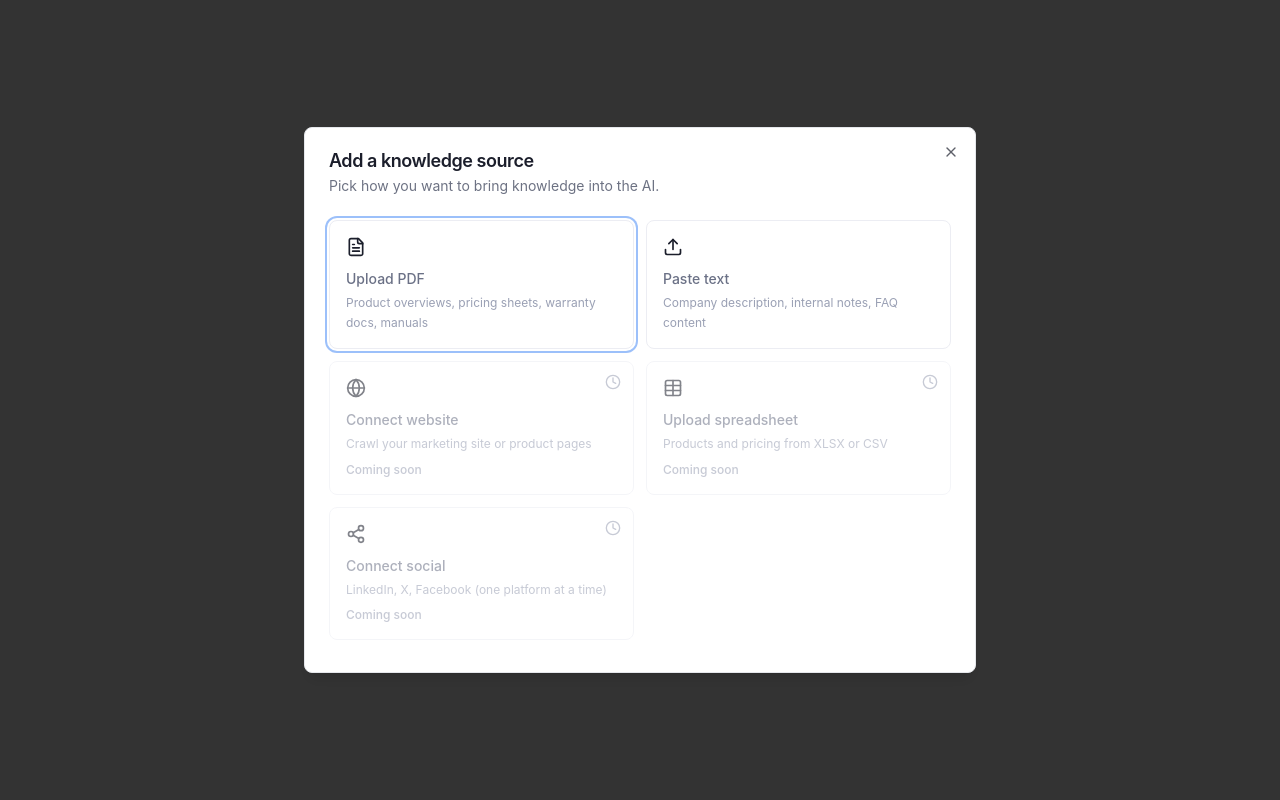
AddSourceDialog — KAN-829 sub-cohort 4 › Test 10 — submit error (413) → error message displayed, dialog stays open
Click the button "Paste text" at [696, 278], box [646,220,951,349]
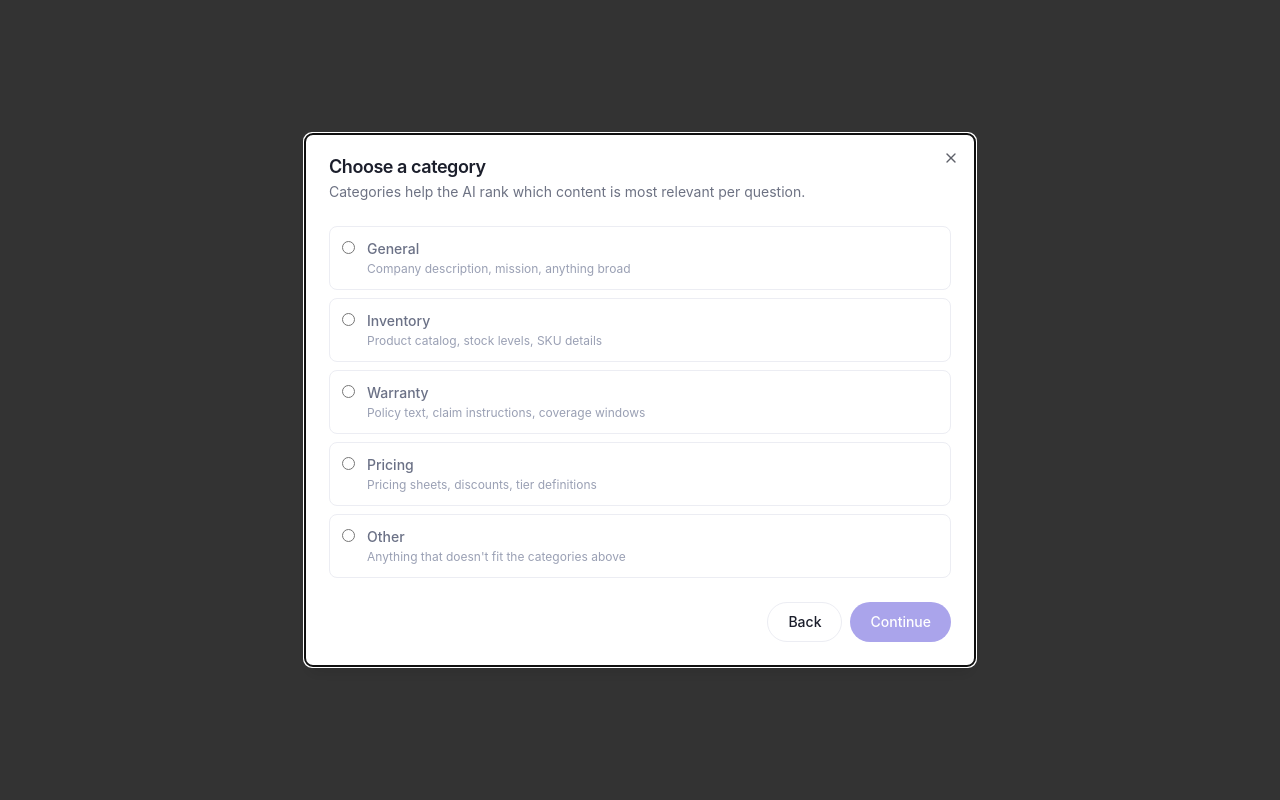
Click the radio button labelled "General Company description, mission, anything broad" at [348, 248], box [342,241,355,254]
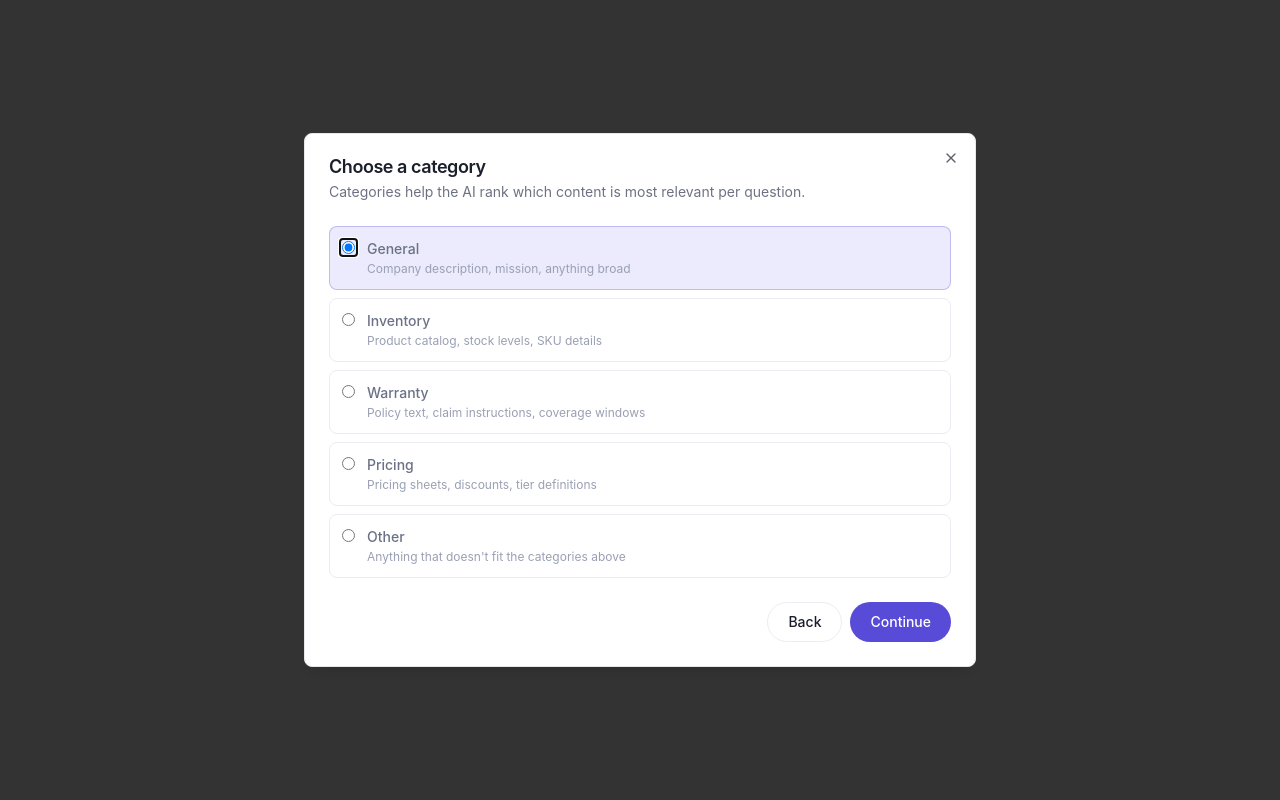
Click the button with aria-label "Confirm category and continue" at [901, 622], box [850,602,951,642]
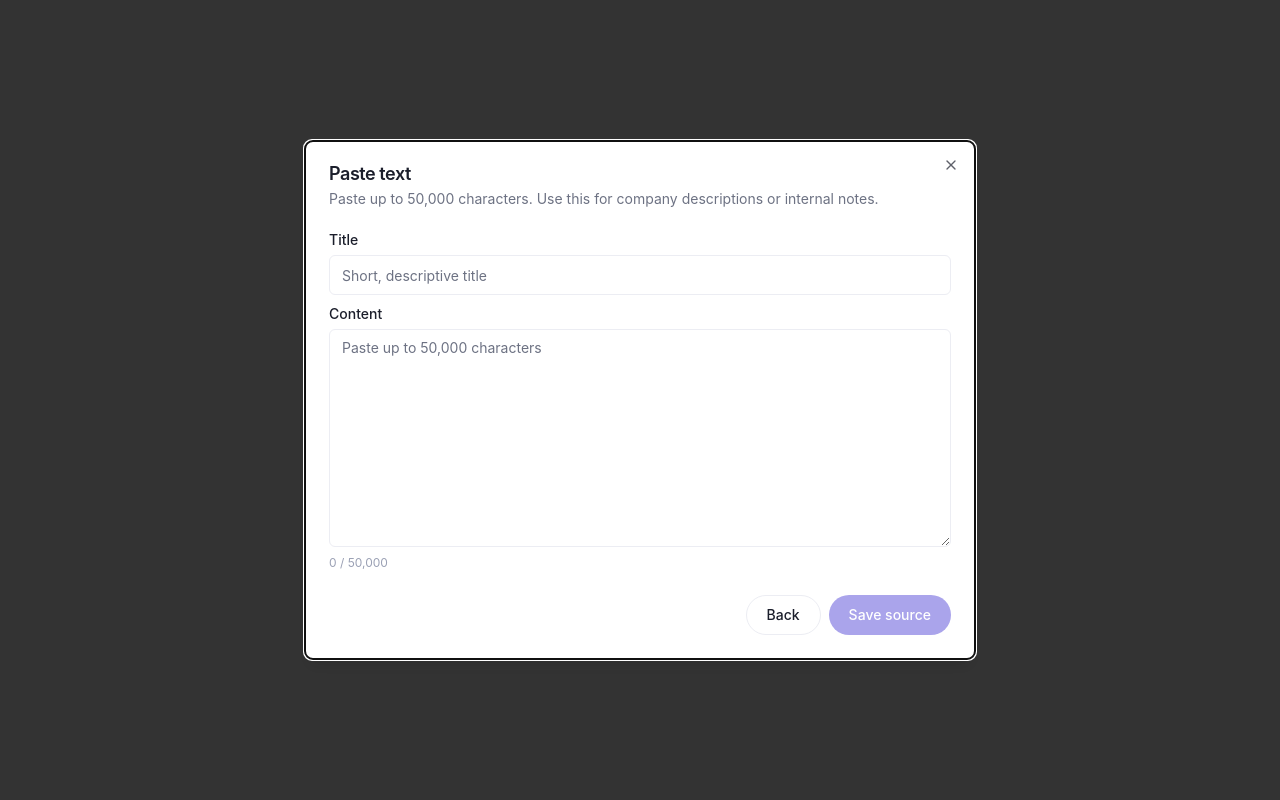
Type "Will fail" into the field labelled "Title" at [640, 275], box [329,255,951,295]
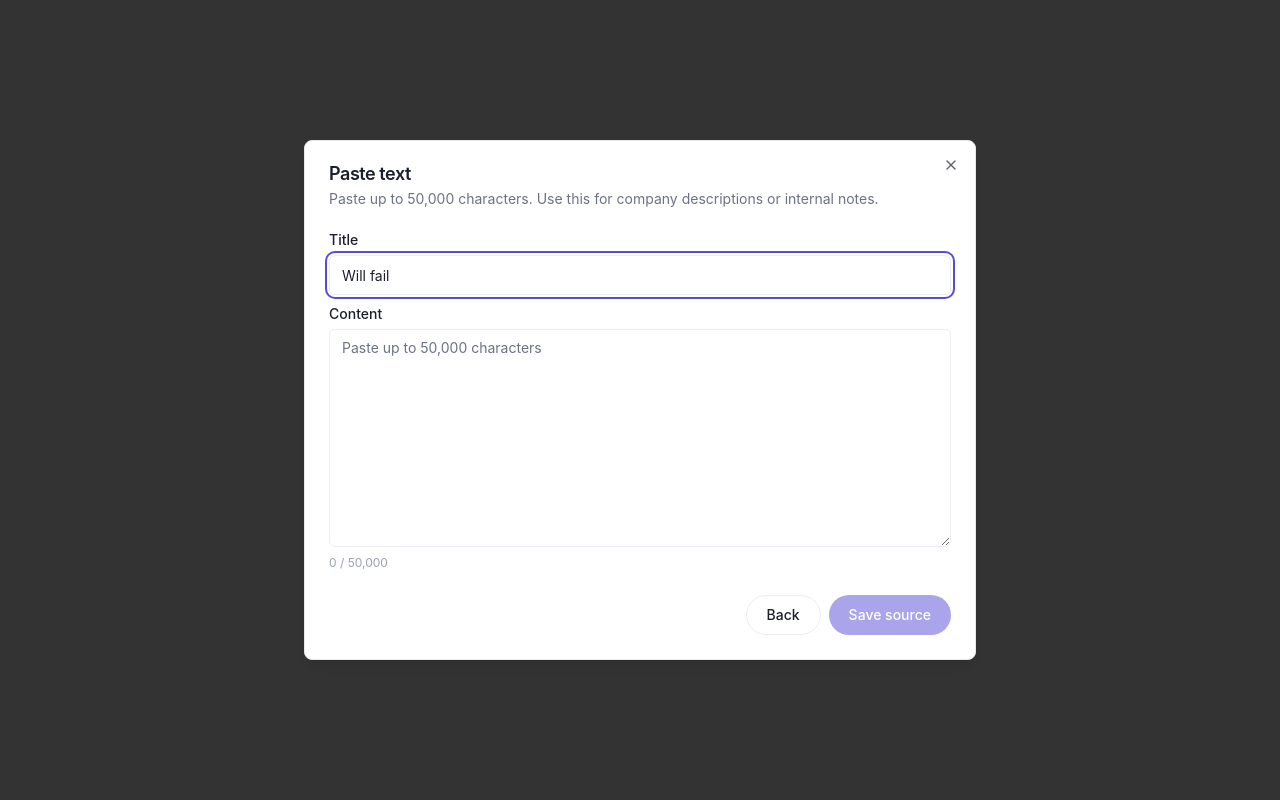
Type "x" into the text box labelled "Content" at [640, 438], box [329,329,951,547]
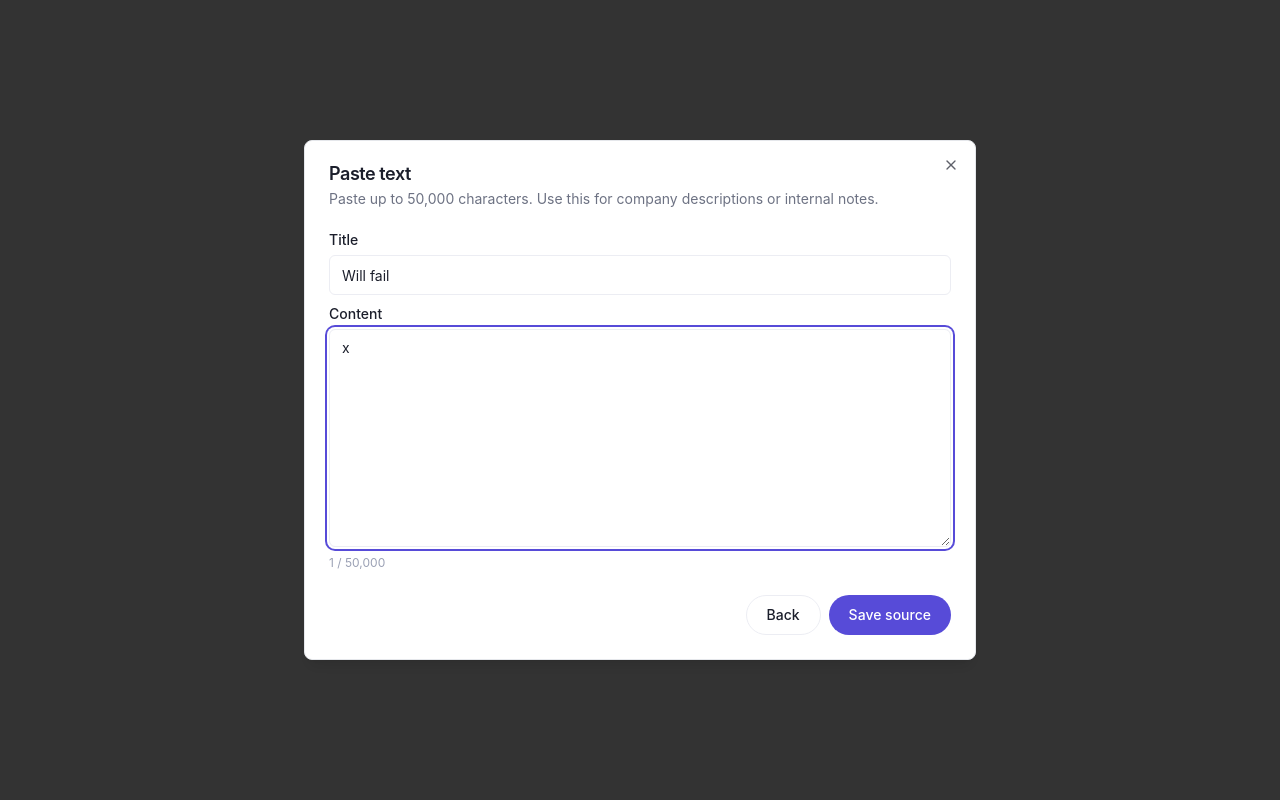
Click the button with aria-label "Save pasted text source" at [890, 615], box [829,595,951,635]
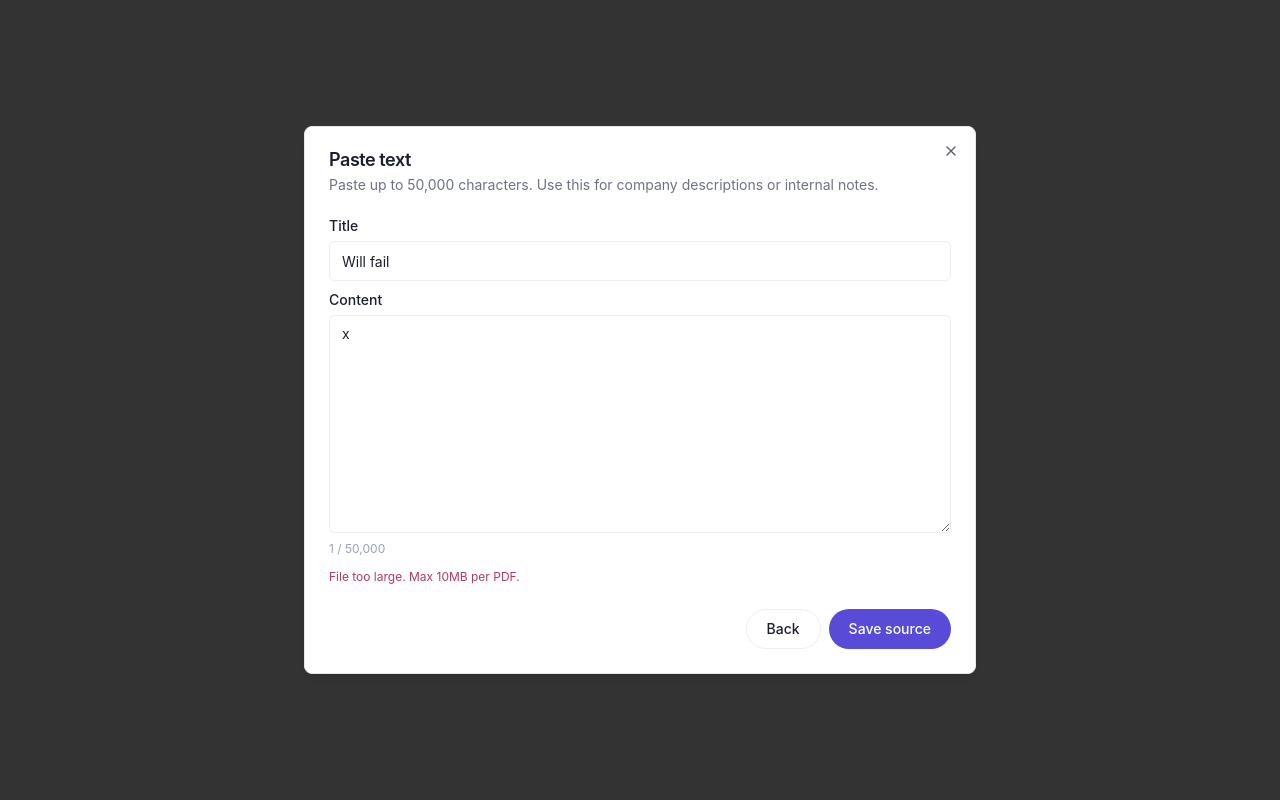
Now the text "File too large. Max 10MB per PDF." is shown, box [329,569,520,584]
